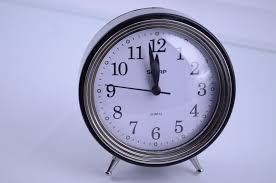alarm_clock: (74, 6, 234, 174), (74, 9, 234, 174), (92, 9, 234, 174)
